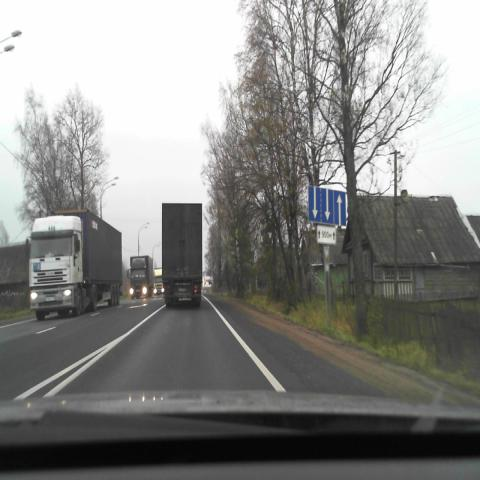5_15_7: (308, 185, 346, 226)
